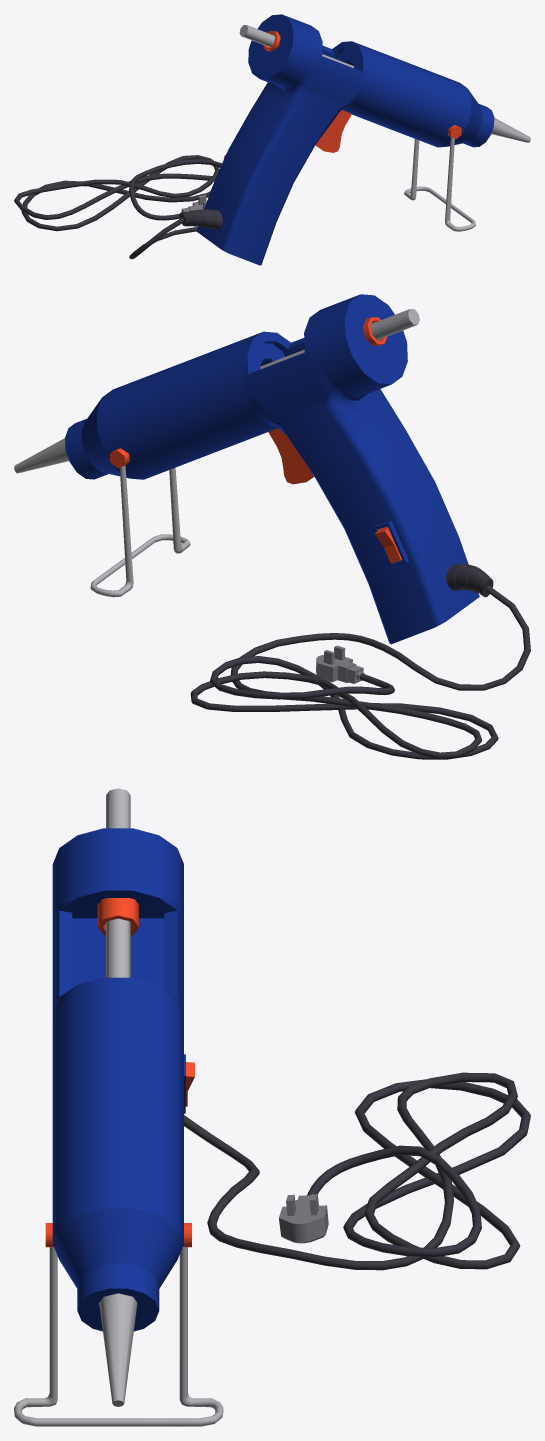
File: Glue_gun.fbx
The picture shows the model from 3 angles, top to bottom: view 1: azimuth 30°, elevation 25°; view 2: azimuth 150°, elevation 25°; view 3: azimuth 270°, elevation 25°; orthographic projection. The views are drawn at different scales.
Parts seen in each view (by area): view 1: Glue_gun; view 2: Glue_gun; view 3: Glue_gun.
Boxes of the visible parts, x1,y1,x2,y2 form: Glue_gun: [14, 14, 530, 265]; Glue_gun: [14, 294, 530, 759]; Glue_gun: [14, 788, 530, 1426].
Size of the model in its own units: 61.13 by 33.86 by 32.27.
